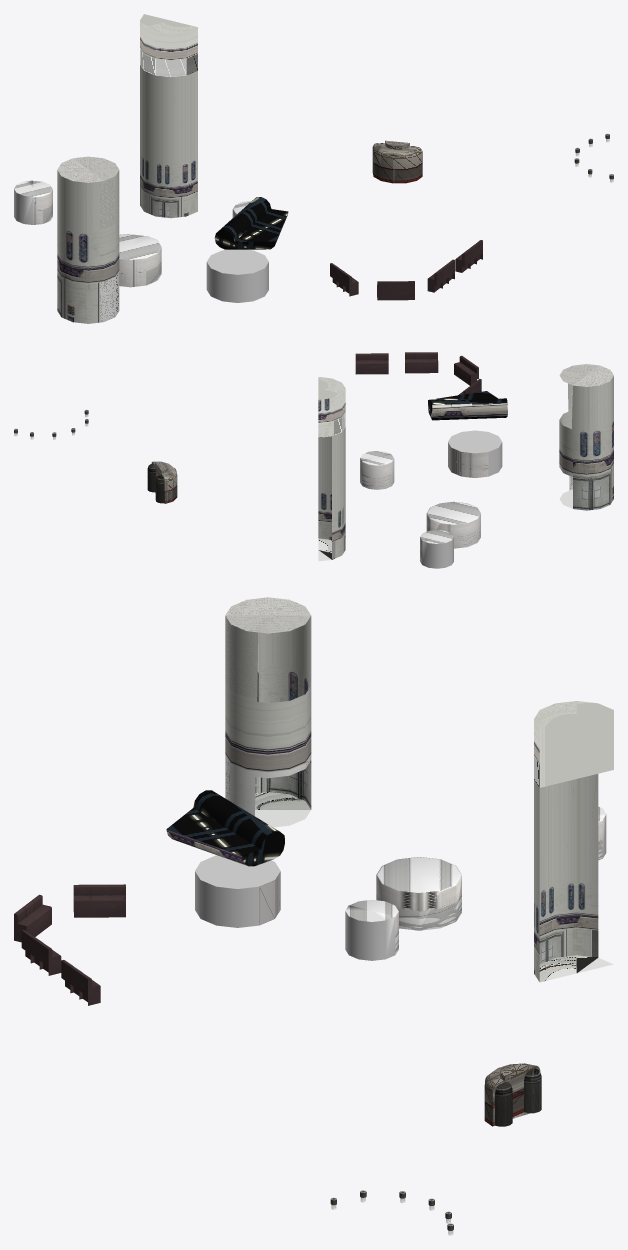
Rendered from building2_and3_props.gltf.
3 renders of one model, top to bottom at view 1: azimuth 30°, elevation 25°; view 2: azimuth 150°, elevation 25°; view 3: azimuth 270°, elevation 25°, orthographic. The views are drawn at different scales.
Visible parts, largest first — view 1: cylinder20, cylinder22, cylinder70, cylinder23, cylinder24, cylinder21, polymsh1247, cylinder18, polymsh11, polymsh12, polymsh13, polymsh10; view 2: cylinder22, cylinder20, cylinder70, cylinder23, cylinder24, cylinder21, cylinder19, cylinder18, polymsh1247, polymsh13, polymsh10, polymsh11; view 3: cylinder20, cylinder22, cylinder70, cylinder23, cylinder24, cylinder21, polymsh1247, cylinder19, polymsh12, polymsh11, polymsh10, polymsh13.
Part boxes in pixels (x1,y1,x2,y2): cylinder20: (140, 14, 197, 218); cylinder22: (57, 156, 119, 323); cylinder70: (57, 157, 119, 323); cylinder23: (206, 249, 268, 302); cylinder24: (214, 197, 288, 249); cylinder21: (119, 234, 161, 287); polymsh1247: (372, 140, 422, 183); cylinder18: (14, 180, 52, 224); polymsh11: (377, 281, 414, 300); polymsh12: (330, 263, 358, 296); polymsh13: (455, 240, 482, 272); polymsh10: (427, 259, 454, 292); cylinder22: (559, 364, 613, 510); cylinder20: (318, 377, 345, 561); cylinder70: (559, 364, 613, 510); cylinder23: (448, 430, 502, 477); cylinder24: (428, 391, 507, 420); cylinder21: (426, 501, 480, 548); cylinder19: (360, 450, 394, 489); cylinder18: (420, 530, 453, 568); polymsh1247: (147, 461, 177, 503); polymsh13: (355, 353, 388, 374); polymsh10: (405, 352, 438, 373); polymsh11: (454, 355, 478, 385); cylinder20: (534, 701, 613, 982); cylinder22: (225, 597, 311, 827); cylinder70: (225, 597, 311, 826); cylinder23: (195, 855, 280, 927); cylinder24: (166, 790, 284, 866); cylinder21: (376, 857, 461, 930); polymsh1247: (484, 1063, 541, 1126); cylinder19: (345, 900, 398, 960); polymsh12: (73, 884, 125, 917); polymsh11: (14, 894, 51, 942); polymsh10: (21, 930, 61, 975); polymsh13: (61, 960, 100, 1005).
Size of the model in its own units: 9.13 by 2.67 by 5.6.
Materials: 10 (9 with a texture image).
